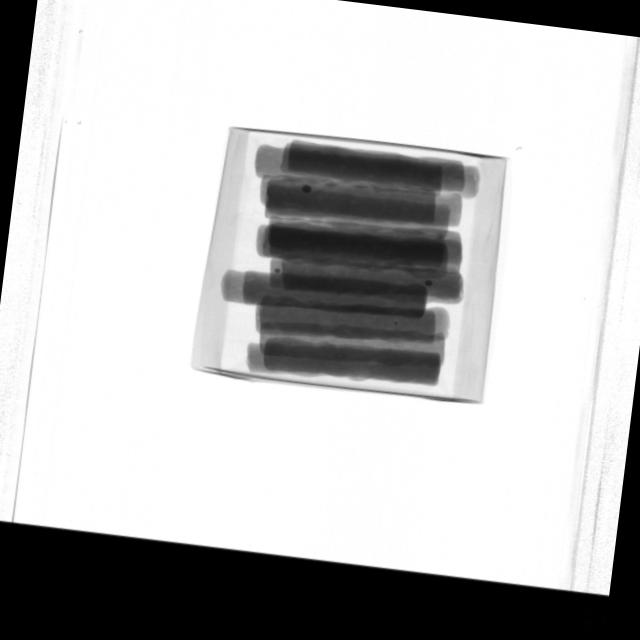ym: (301, 184, 312, 193), (425, 280, 433, 287), (275, 268, 281, 274), (394, 320, 399, 326)
